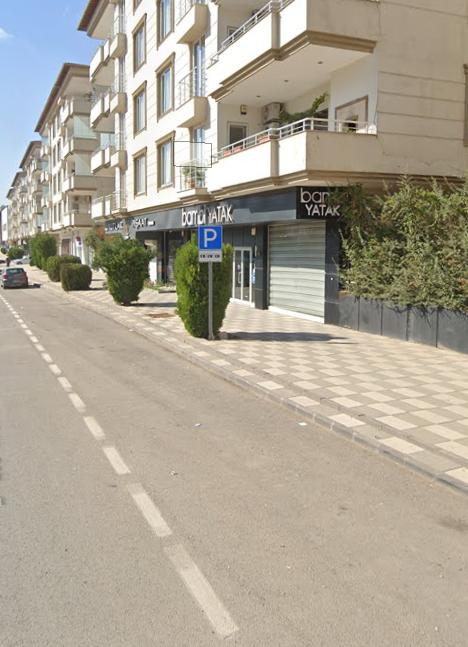park: (199, 225, 223, 250)
